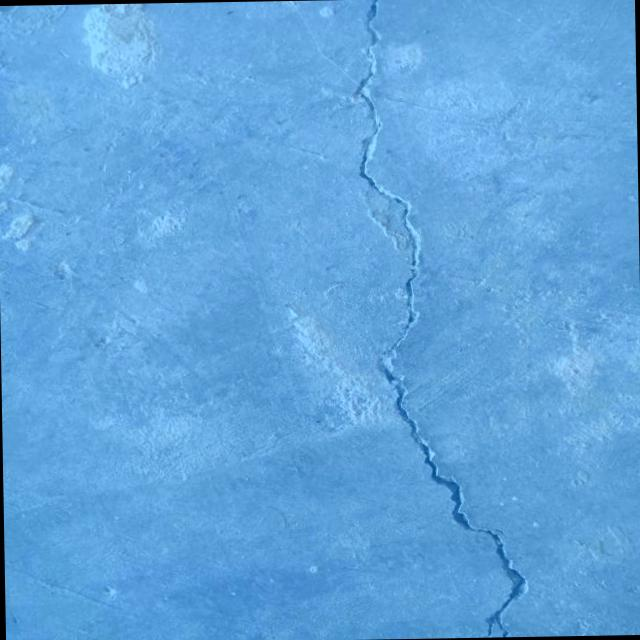crack: (350, 0, 527, 639)
